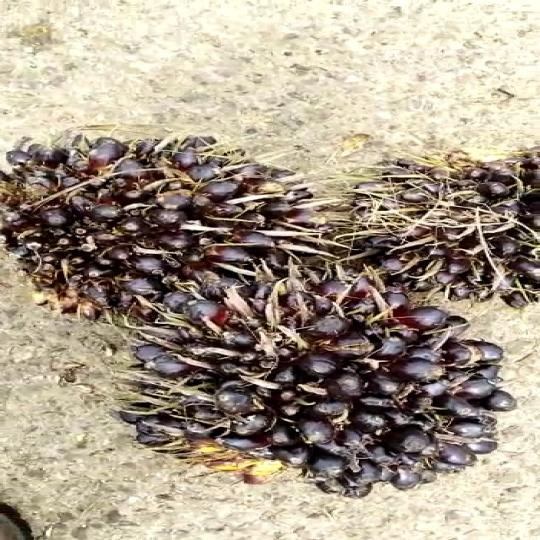mentah: (127, 280, 515, 494), (0, 120, 394, 317), (334, 135, 540, 289)
